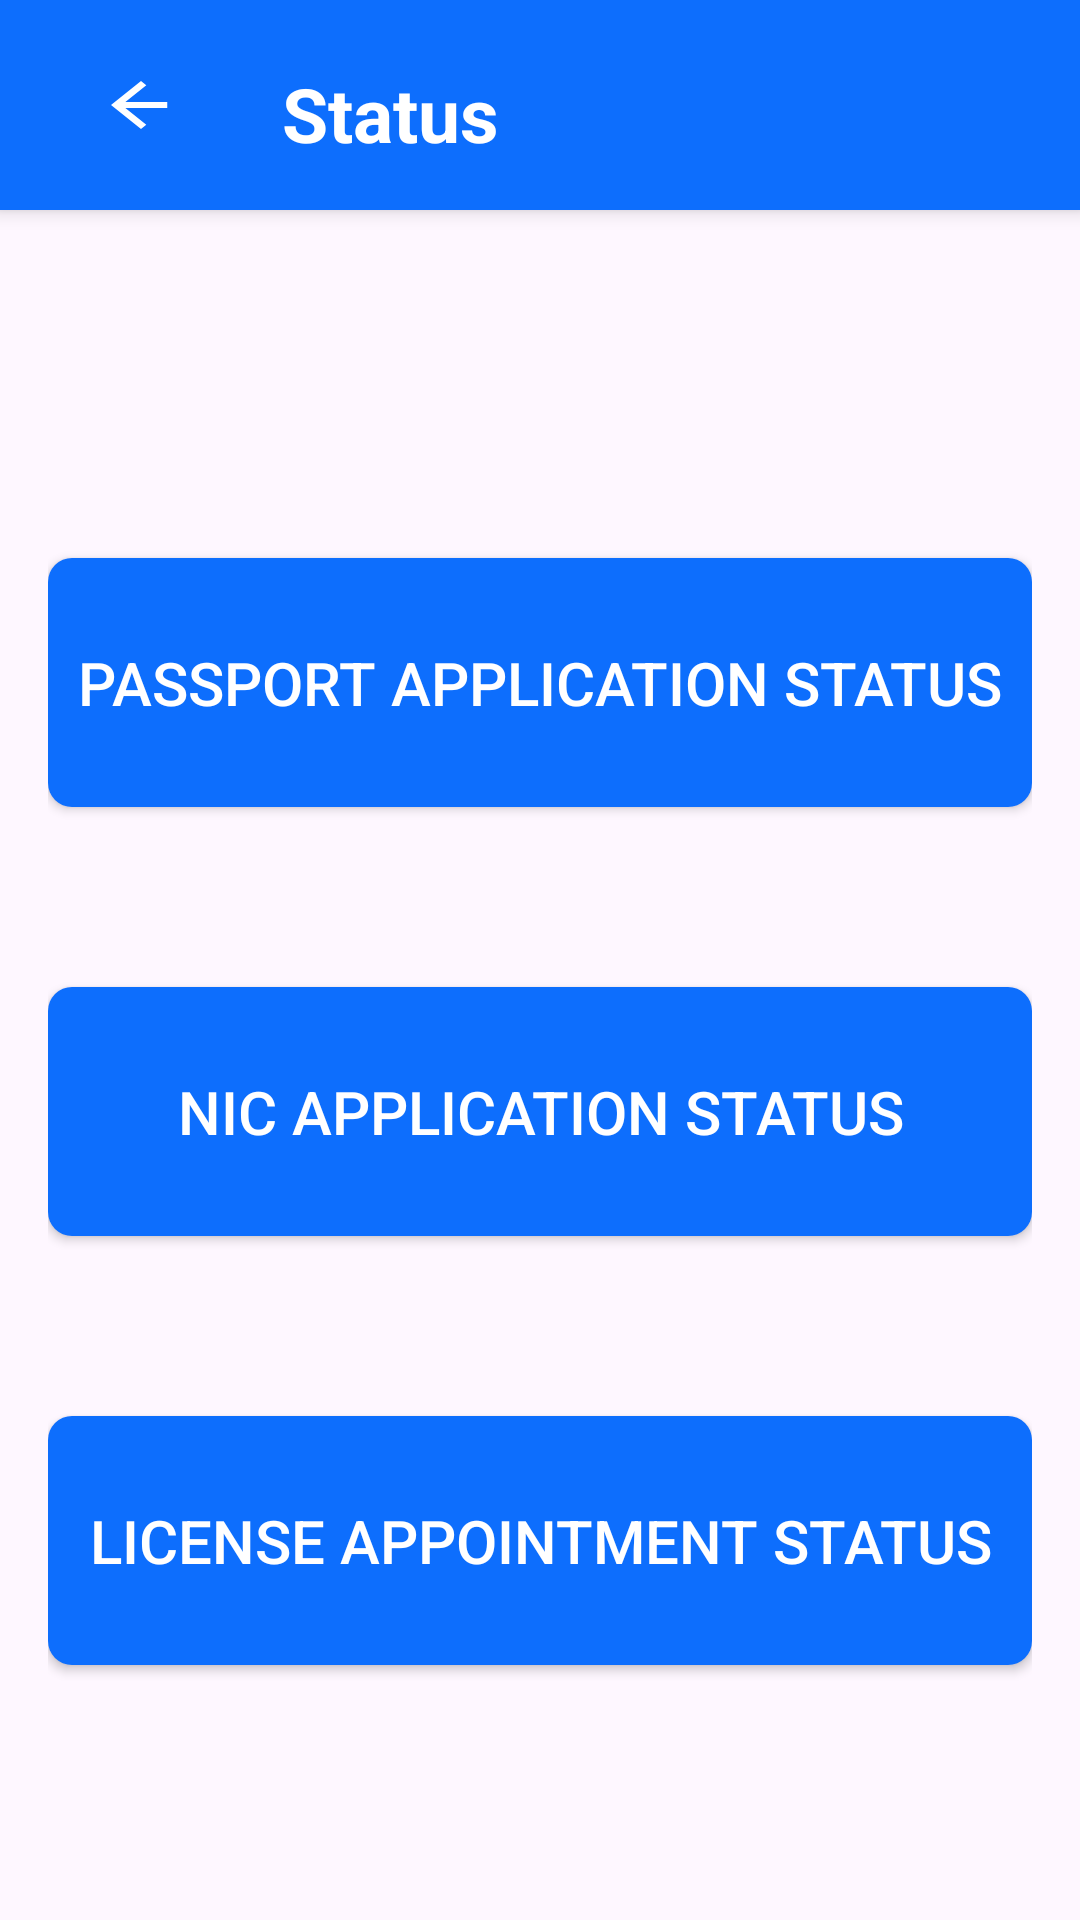

Named icons in this screenshot (1080*1920) and their centers, (x,y):
Back: (139,105)
